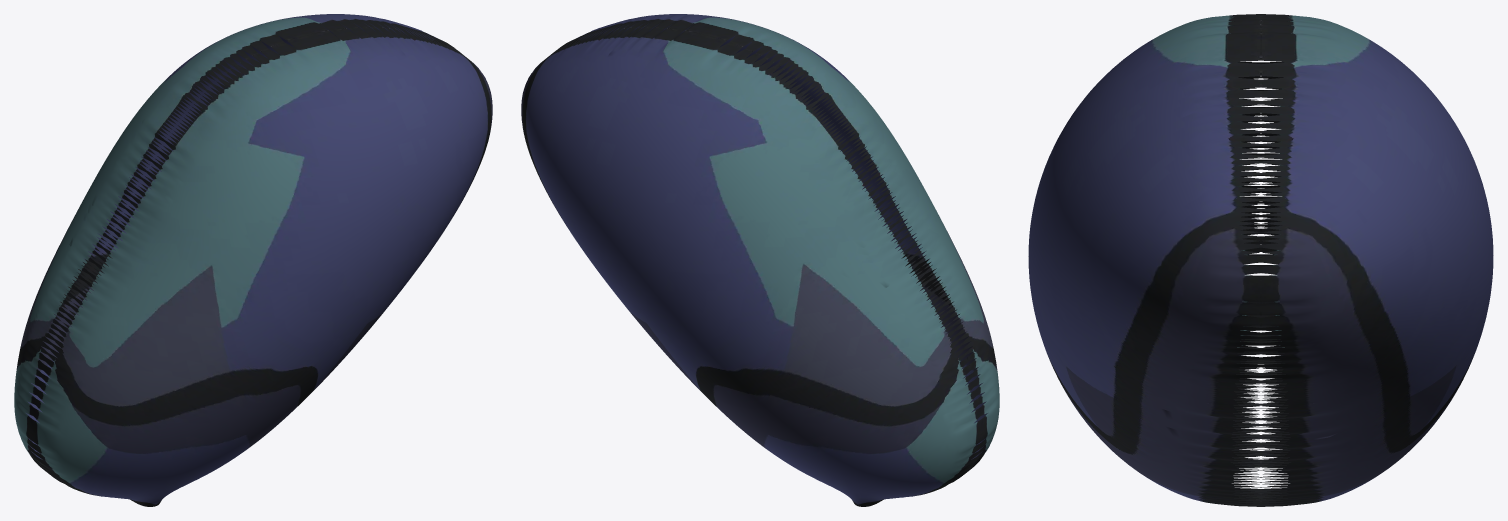
The model's file is slate_slab.glb.
3 renders of one model, left to right at view 1: azimuth 30°, elevation 25°; view 2: azimuth 150°, elevation 25°; view 3: azimuth 270°, elevation 25°, orthographic. The views are drawn at different scales.
Parts seen in each view (by area): view 1: slate_slab; view 2: slate_slab; view 3: slate_slab.
Part boxes in pixels (x1,y1,x2,y2): slate_slab: (14,14,492,506); slate_slab: (521,14,999,506); slate_slab: (1028,14,1493,506).
Size of the model in its own units: 0.9889 by 0.8534 by 0.6408.
Materials: 1 (1 with a texture image).
